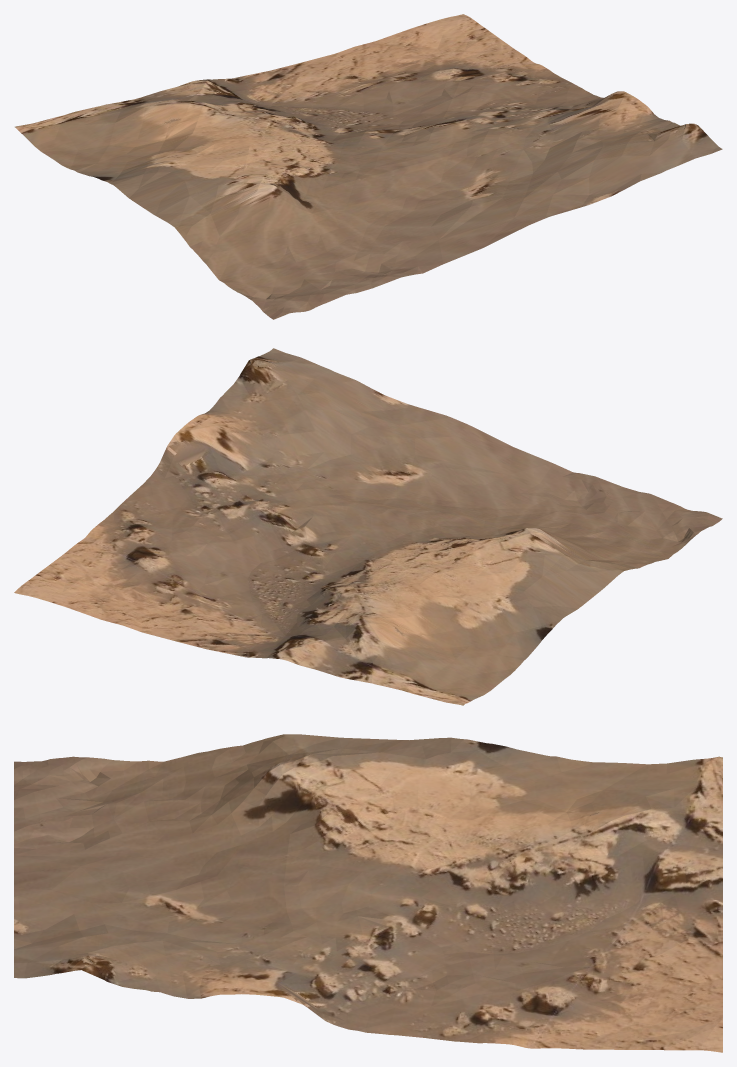
The picture shows the model from 3 angles, top to bottom: view 1: azimuth 30°, elevation 25°; view 2: azimuth 150°, elevation 25°; view 3: azimuth 270°, elevation 25°; orthographic projection. The views are drawn at different scales.
Size of the model in its own units: 1.04 by 0.1704 by 1.04.
Materials: 2 (2 with a texture image).
